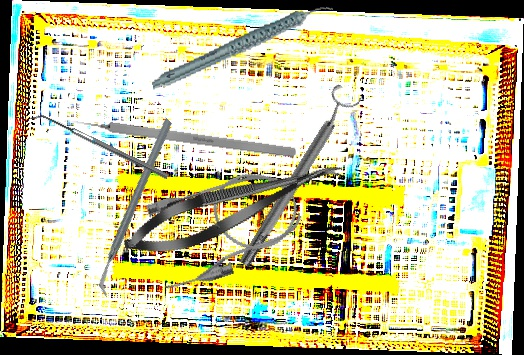Cannula: (137, 158, 312, 297)
Chopper: (44, 116, 228, 298)
Fixation Ring: (228, 82, 365, 273)
Handpiece: (143, 4, 343, 91)
Hook Surgical: (63, 114, 297, 159)
Micro Scissor: (117, 145, 350, 269)
Spatula Surgical: (30, 108, 169, 185)
